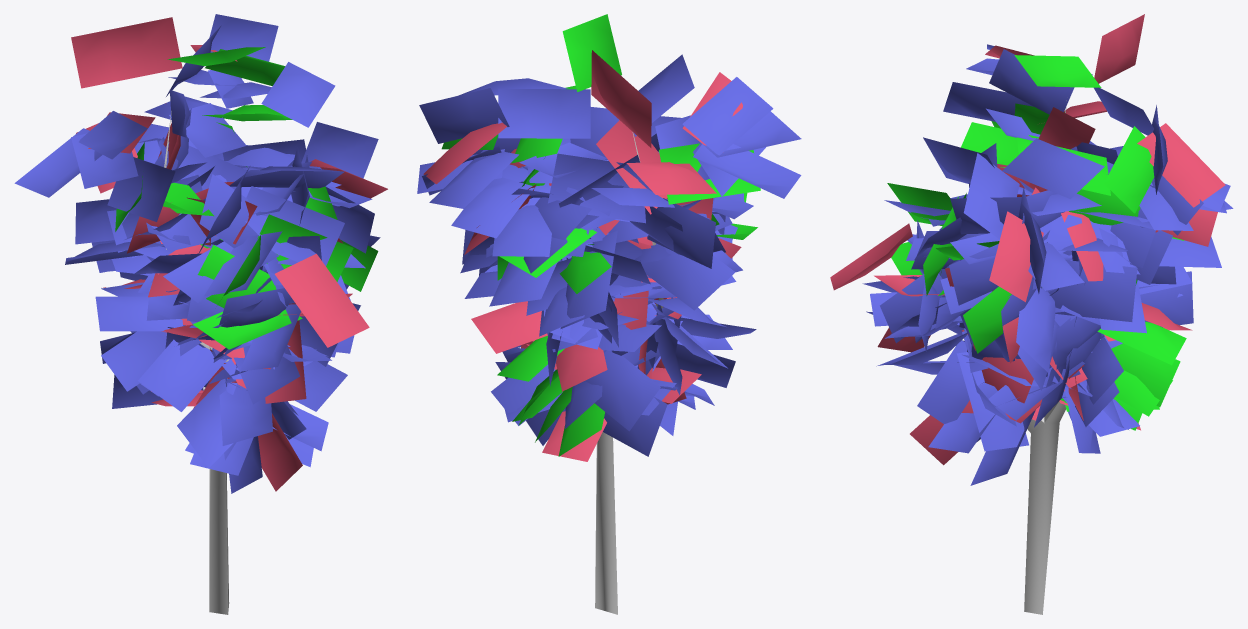
File: Boom2.1.fbx
3 views of the same model, side by side, from view 1: azimuth 30°, elevation 25°; view 2: azimuth 150°, elevation 25°; view 3: azimuth 270°, elevation 25° (orthographic). The views are drawn at different scales.
Parts seen in each view (by area): view 1: boom2.1; view 2: boom2.1; view 3: boom2.1.
Part boxes in pixels (x1,y1,x2,y2): boom2.1: (14, 14, 387, 614); boom2.1: (417, 14, 801, 614); boom2.1: (830, 14, 1233, 614).
Size of the model in its own units: 1724 by 2705 by 1741.
